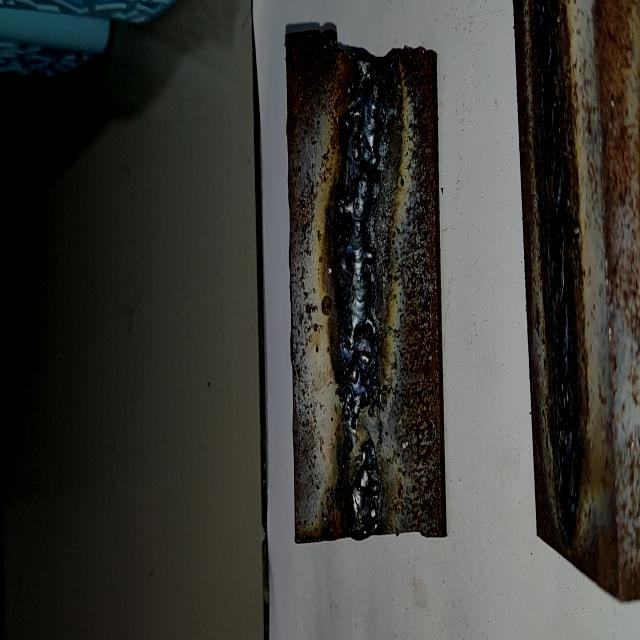Bad Weld: (346, 65, 382, 536)
Defect: (341, 60, 383, 185), (342, 385, 387, 474)
